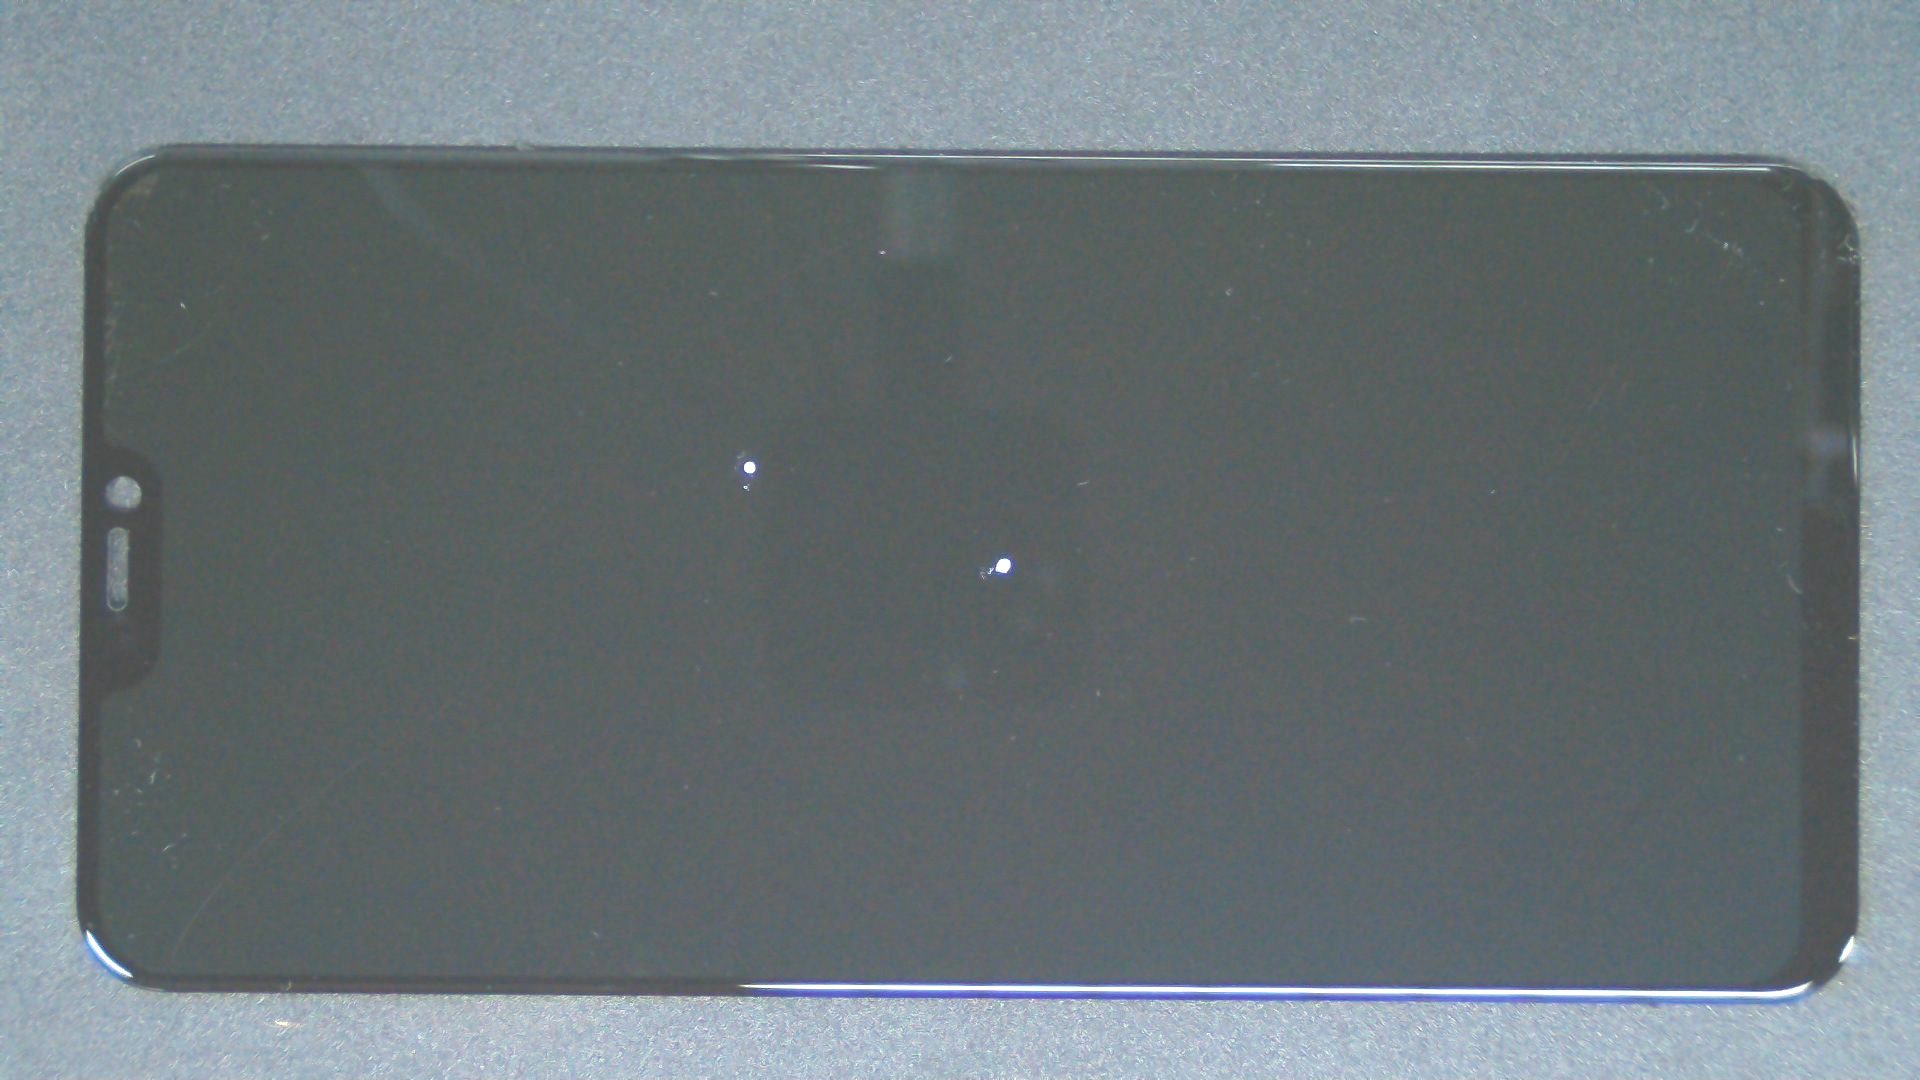oil: (504, 277, 1509, 835), (378, 229, 1131, 688)
